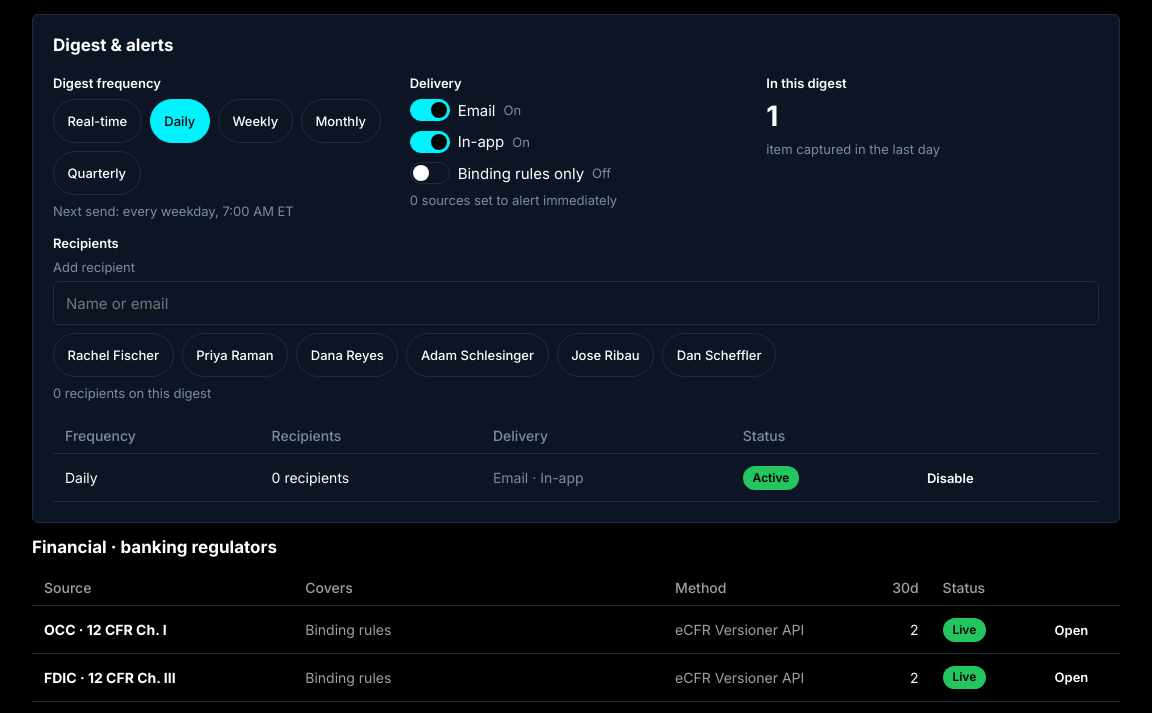
Settings · Toggles — digest recipients (D7: AD roster, Chip filter reuse) › pressing a roster Chip adds that user as a recipient and confirms via toast (edit fields)
(page scrolled)
What coordinates should you click on to do the following:
click the button "Priya Raman"
I would click on:
 (235, 355)
Its box is [182,333,288,377].
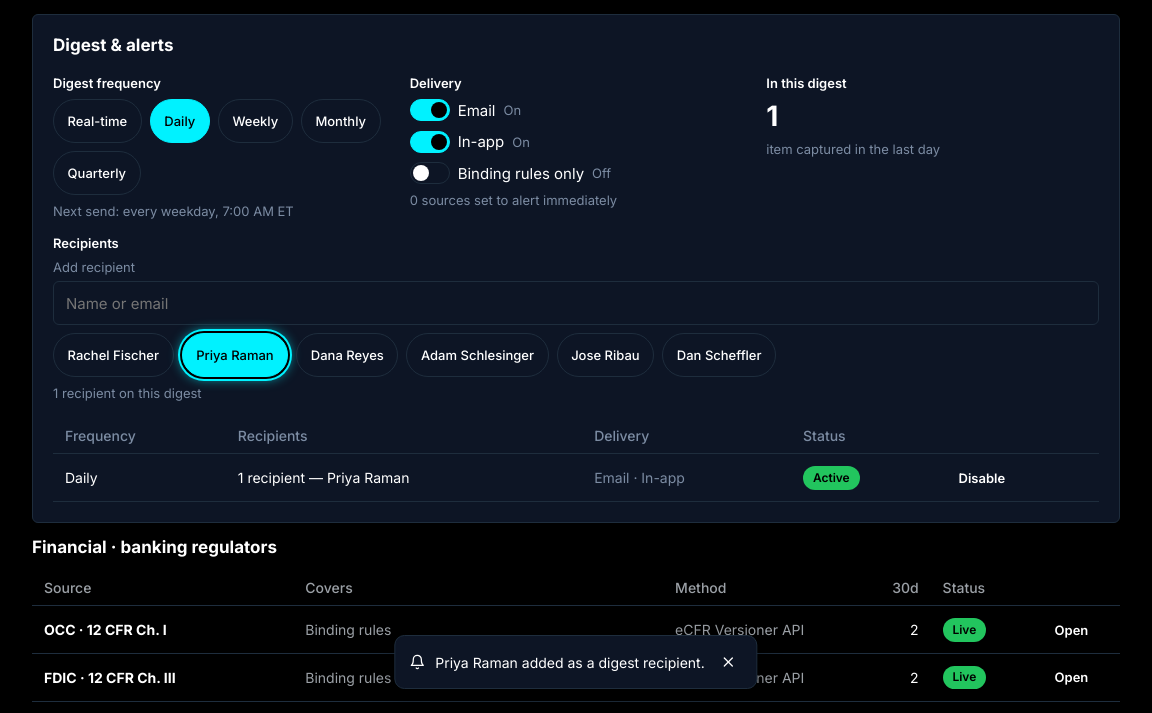
Result: the text "1 recipient on this digest" is shown at [53,385,202,401]
Result: the text "Priya Raman added as a digest recipient." is shown at [435,654,705,670]
